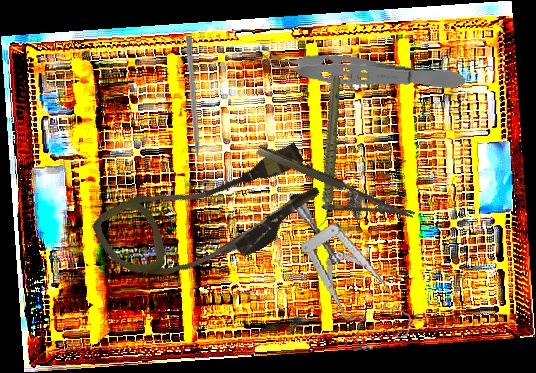Cannula: (88, 118, 332, 314)
Handpiece: (285, 74, 372, 229)
Needle Holder: (246, 143, 416, 244)
Pusher: (184, 35, 202, 177)
Speculum: (288, 180, 416, 360)
Tissue Forceps: (255, 41, 468, 98)
